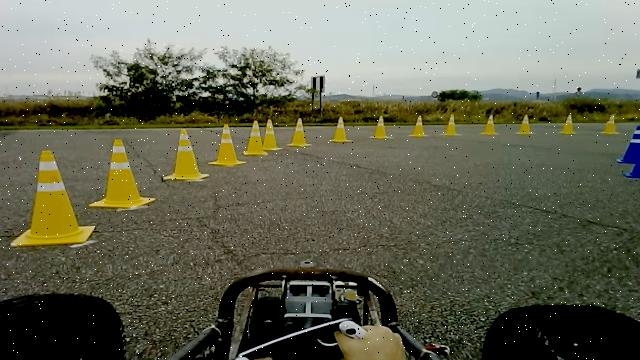blue cone: (622, 134, 640, 182), (622, 123, 640, 163)
yellow cone: (11, 149, 95, 247), (89, 138, 156, 209), (162, 128, 210, 181), (208, 123, 248, 166), (243, 120, 269, 155), (287, 117, 312, 147), (262, 118, 284, 151), (329, 116, 353, 142), (370, 115, 394, 139), (440, 114, 462, 136), (408, 114, 429, 136), (480, 114, 500, 135)
